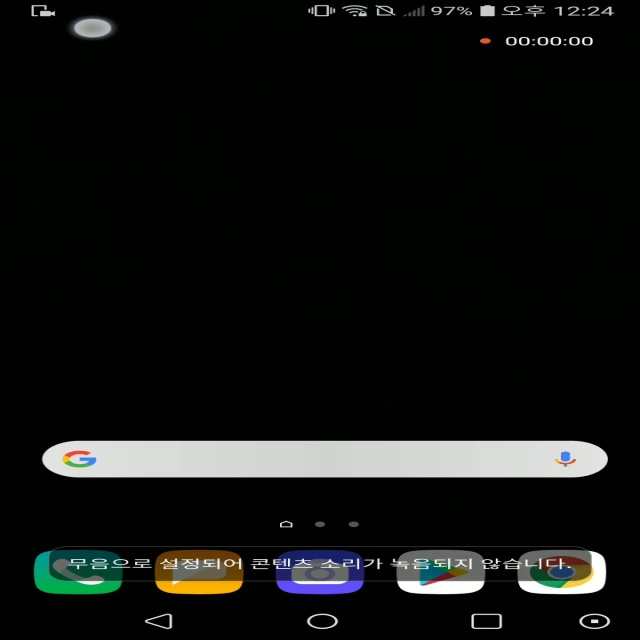Cursor: (72, 17, 116, 40)
